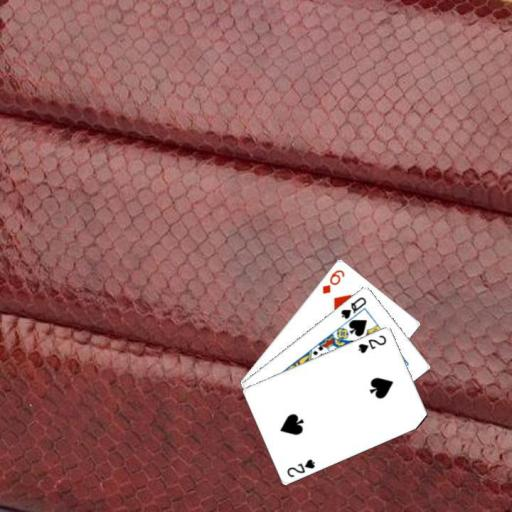2S: (355, 331, 388, 355), (284, 456, 316, 479)
6D: (320, 266, 347, 295)
QS: (338, 294, 368, 320)
